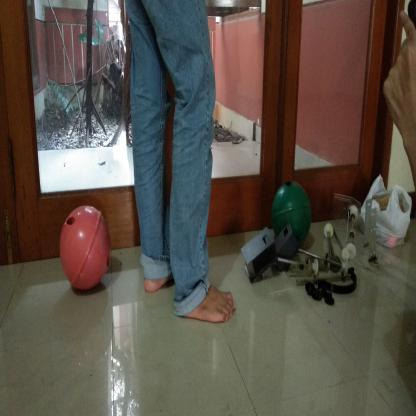green_buoy: (268, 176, 312, 247)
red_buoy: (60, 203, 114, 294)
